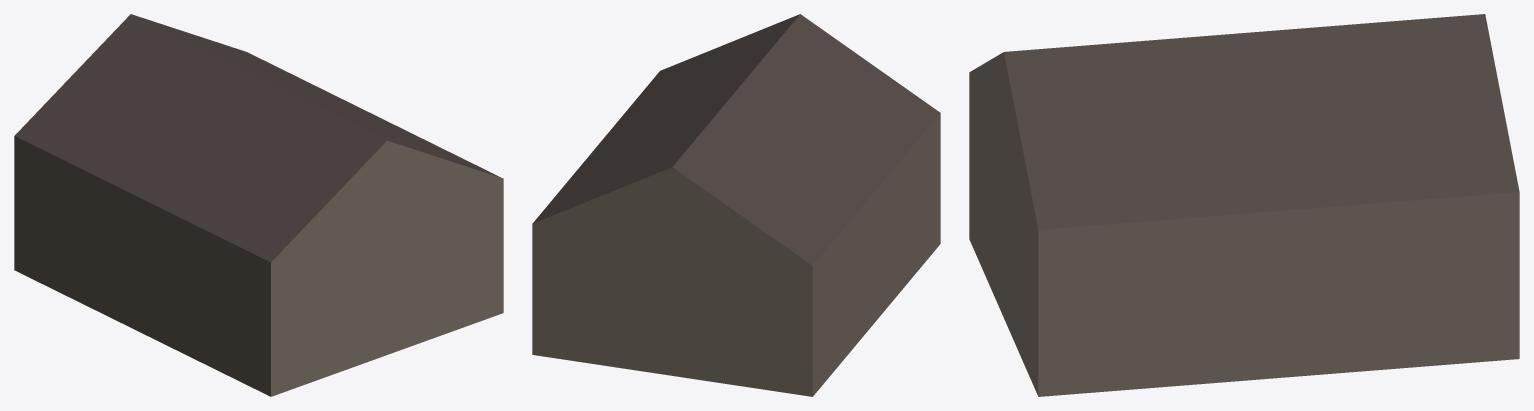
3 views of the same model, side by side, from view 1: azimuth 30°, elevation 25°; view 2: azimuth 150°, elevation 25°; view 3: azimuth 270°, elevation 25° (orthographic). The views are drawn at different scales.
Visible parts, largest first — view 1: HP-w1376988738; view 2: HP-w1376988738; view 3: HP-w1376988738.
Boxes of the visible parts, left/top/right/bottom form: HP-w1376988738: left=14, top=14, right=503, bottom=396; HP-w1376988738: left=532, top=14, right=940, bottom=396; HP-w1376988738: left=969, top=14, right=1519, bottom=396.
Bounding box in the file's own units: 15.08 × 9.57 × 17.93.
